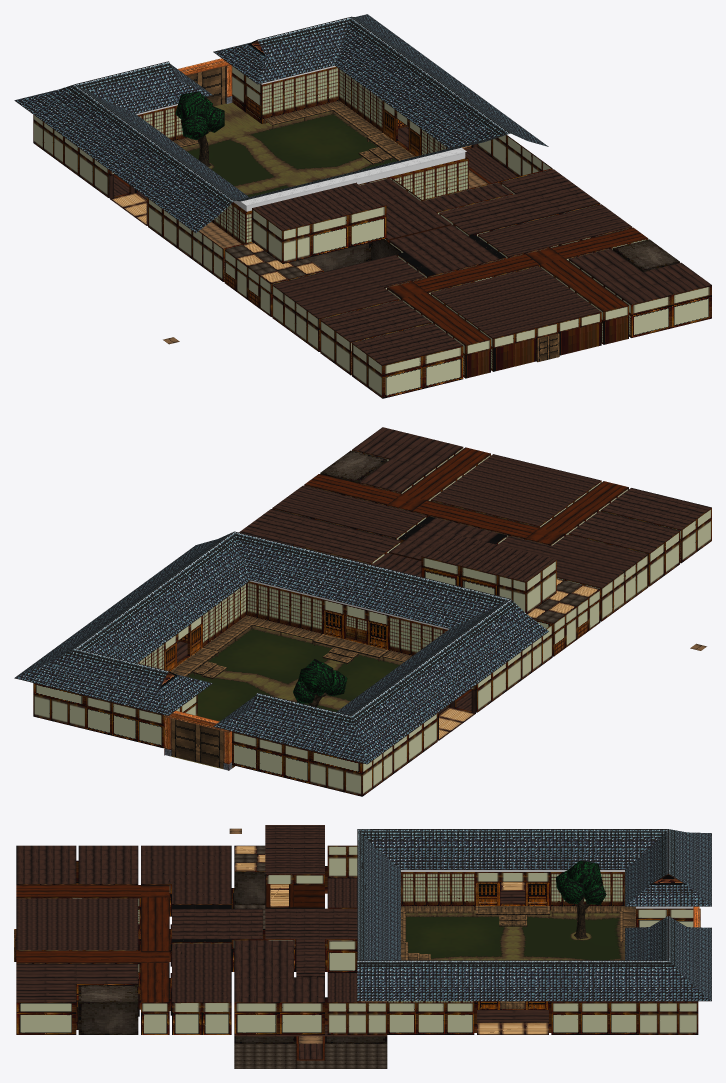
File: house.fbx
3 renders of one model, top to bottom at view 1: azimuth 30°, elevation 25°; view 2: azimuth 150°, elevation 25°; view 3: azimuth 270°, elevation 25°, orthographic. The views are drawn at different scales.
Parts seen in each view (by area): view 1: Plane.194, Plane, Plane.034, Plane.013, Plane.101, Plane.110, Plane.079, Plane.180, Plane.041, Plane.037, Plane.095, Plane.086 (+32 smaller); view 2: Plane.194, Plane, Plane.034, Plane.013, Plane.148, Plane.138, Plane.110, Plane.179, Plane.037, Plane.101, Plane.095, Plane.079 (+27 smaller); view 3: Plane.194, Plane, Plane.034, Plane.013, Plane.128, Plane.138, Plane.101, Plane.110, Plane.086, Plane.037, Plane.095, Plane.066 (+32 smaller).
Boxes of the visible parts, <box> form: Plane.194: <box>14,14,548,233</box>; Plane: <box>182,102,397,196</box>; Plane.034: <box>387,227,647,344</box>; Plane.013: <box>431,266,600,338</box>; Plane.101: <box>272,254,424,318</box>; Plane.110: <box>440,169,599,234</box>; Plane.079: <box>252,182,513,263</box>; Plane.180: <box>261,67,382,131</box>; Plane.041: <box>352,343,463,398</box>; Plane.037: <box>569,248,711,304</box>; Plane.095: <box>478,204,631,256</box>; Plane.086: <box>360,178,512,239</box>; Plane.194: <box>14,531,548,764</box>; Plane: <box>171,625,403,769</box>; Plane.034: <box>304,447,628,544</box>; Plane.013: <box>431,454,601,525</box>; Plane.148: <box>232,713,437,796</box>; Plane.138: <box>33,683,163,748</box>; Plane.110: <box>239,509,400,562</box>; Plane.179: <box>202,581,322,645</box>; Plane.037: <box>352,427,462,492</box>; Plane.101: <box>497,534,647,587</box>; Plane.095: <box>272,485,426,537</box>; Plane.079: <box>421,556,556,614</box>; Plane.194: <box>357,829,711,1001</box>; Plane: <box>406,910,624,960</box>; Plane.034: <box>16,885,169,1002</box>; Plane.013: <box>16,898,138,949</box>; Plane.128: <box>327,940,474,1034</box>; Plane.138: <box>551,1002,698,1034</box>; Plane.101: <box>141,845,231,903</box>; Plane.110: <box>234,940,324,1002</box>; Plane.086: <box>265,908,357,975</box>; Plane.037: <box>16,964,138,1002</box>; Plane.095: <box>172,943,231,1002</box>; Plane.066: <box>234,1043,387,1068</box>.
Bounding box in the file's own units: 80.72 × 17.92 × 112.
